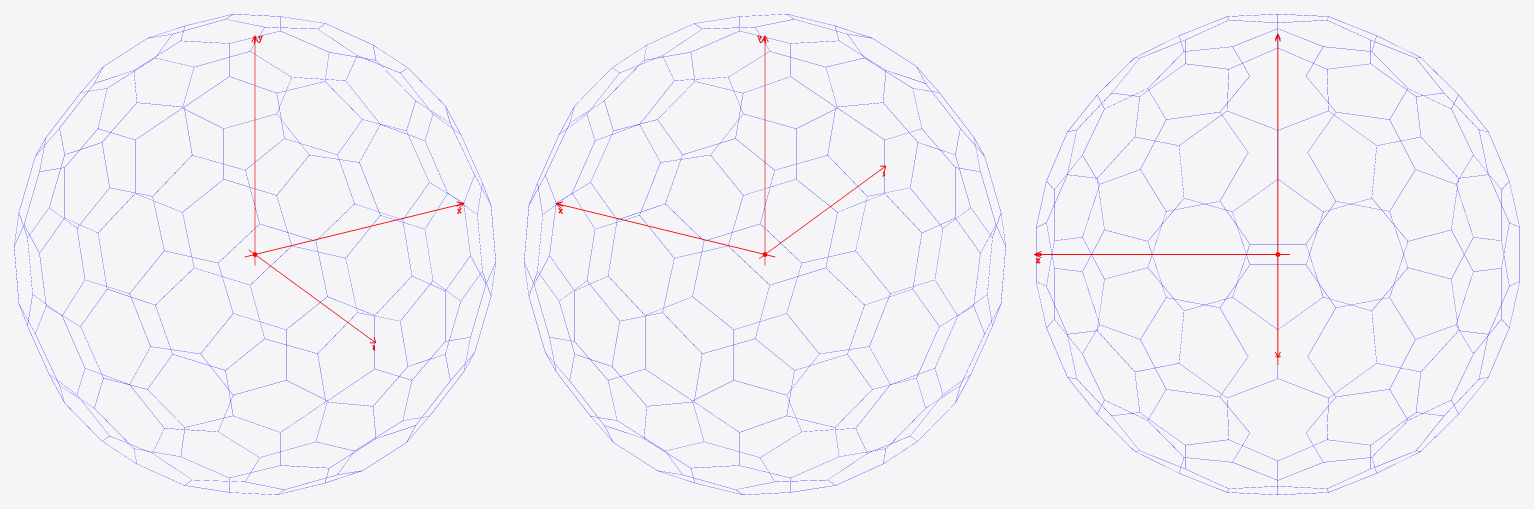
Rendered from GolfBallWithCoods.glb.
The picture shows the model from 3 angles, left to right: view 1: azimuth 30°, elevation 25°; view 2: azimuth 150°, elevation 25°; view 3: azimuth 270°, elevation 25°; orthographic projection.
Bounding box in the file's own units: 1.99 × 1.99 × 1.99.
